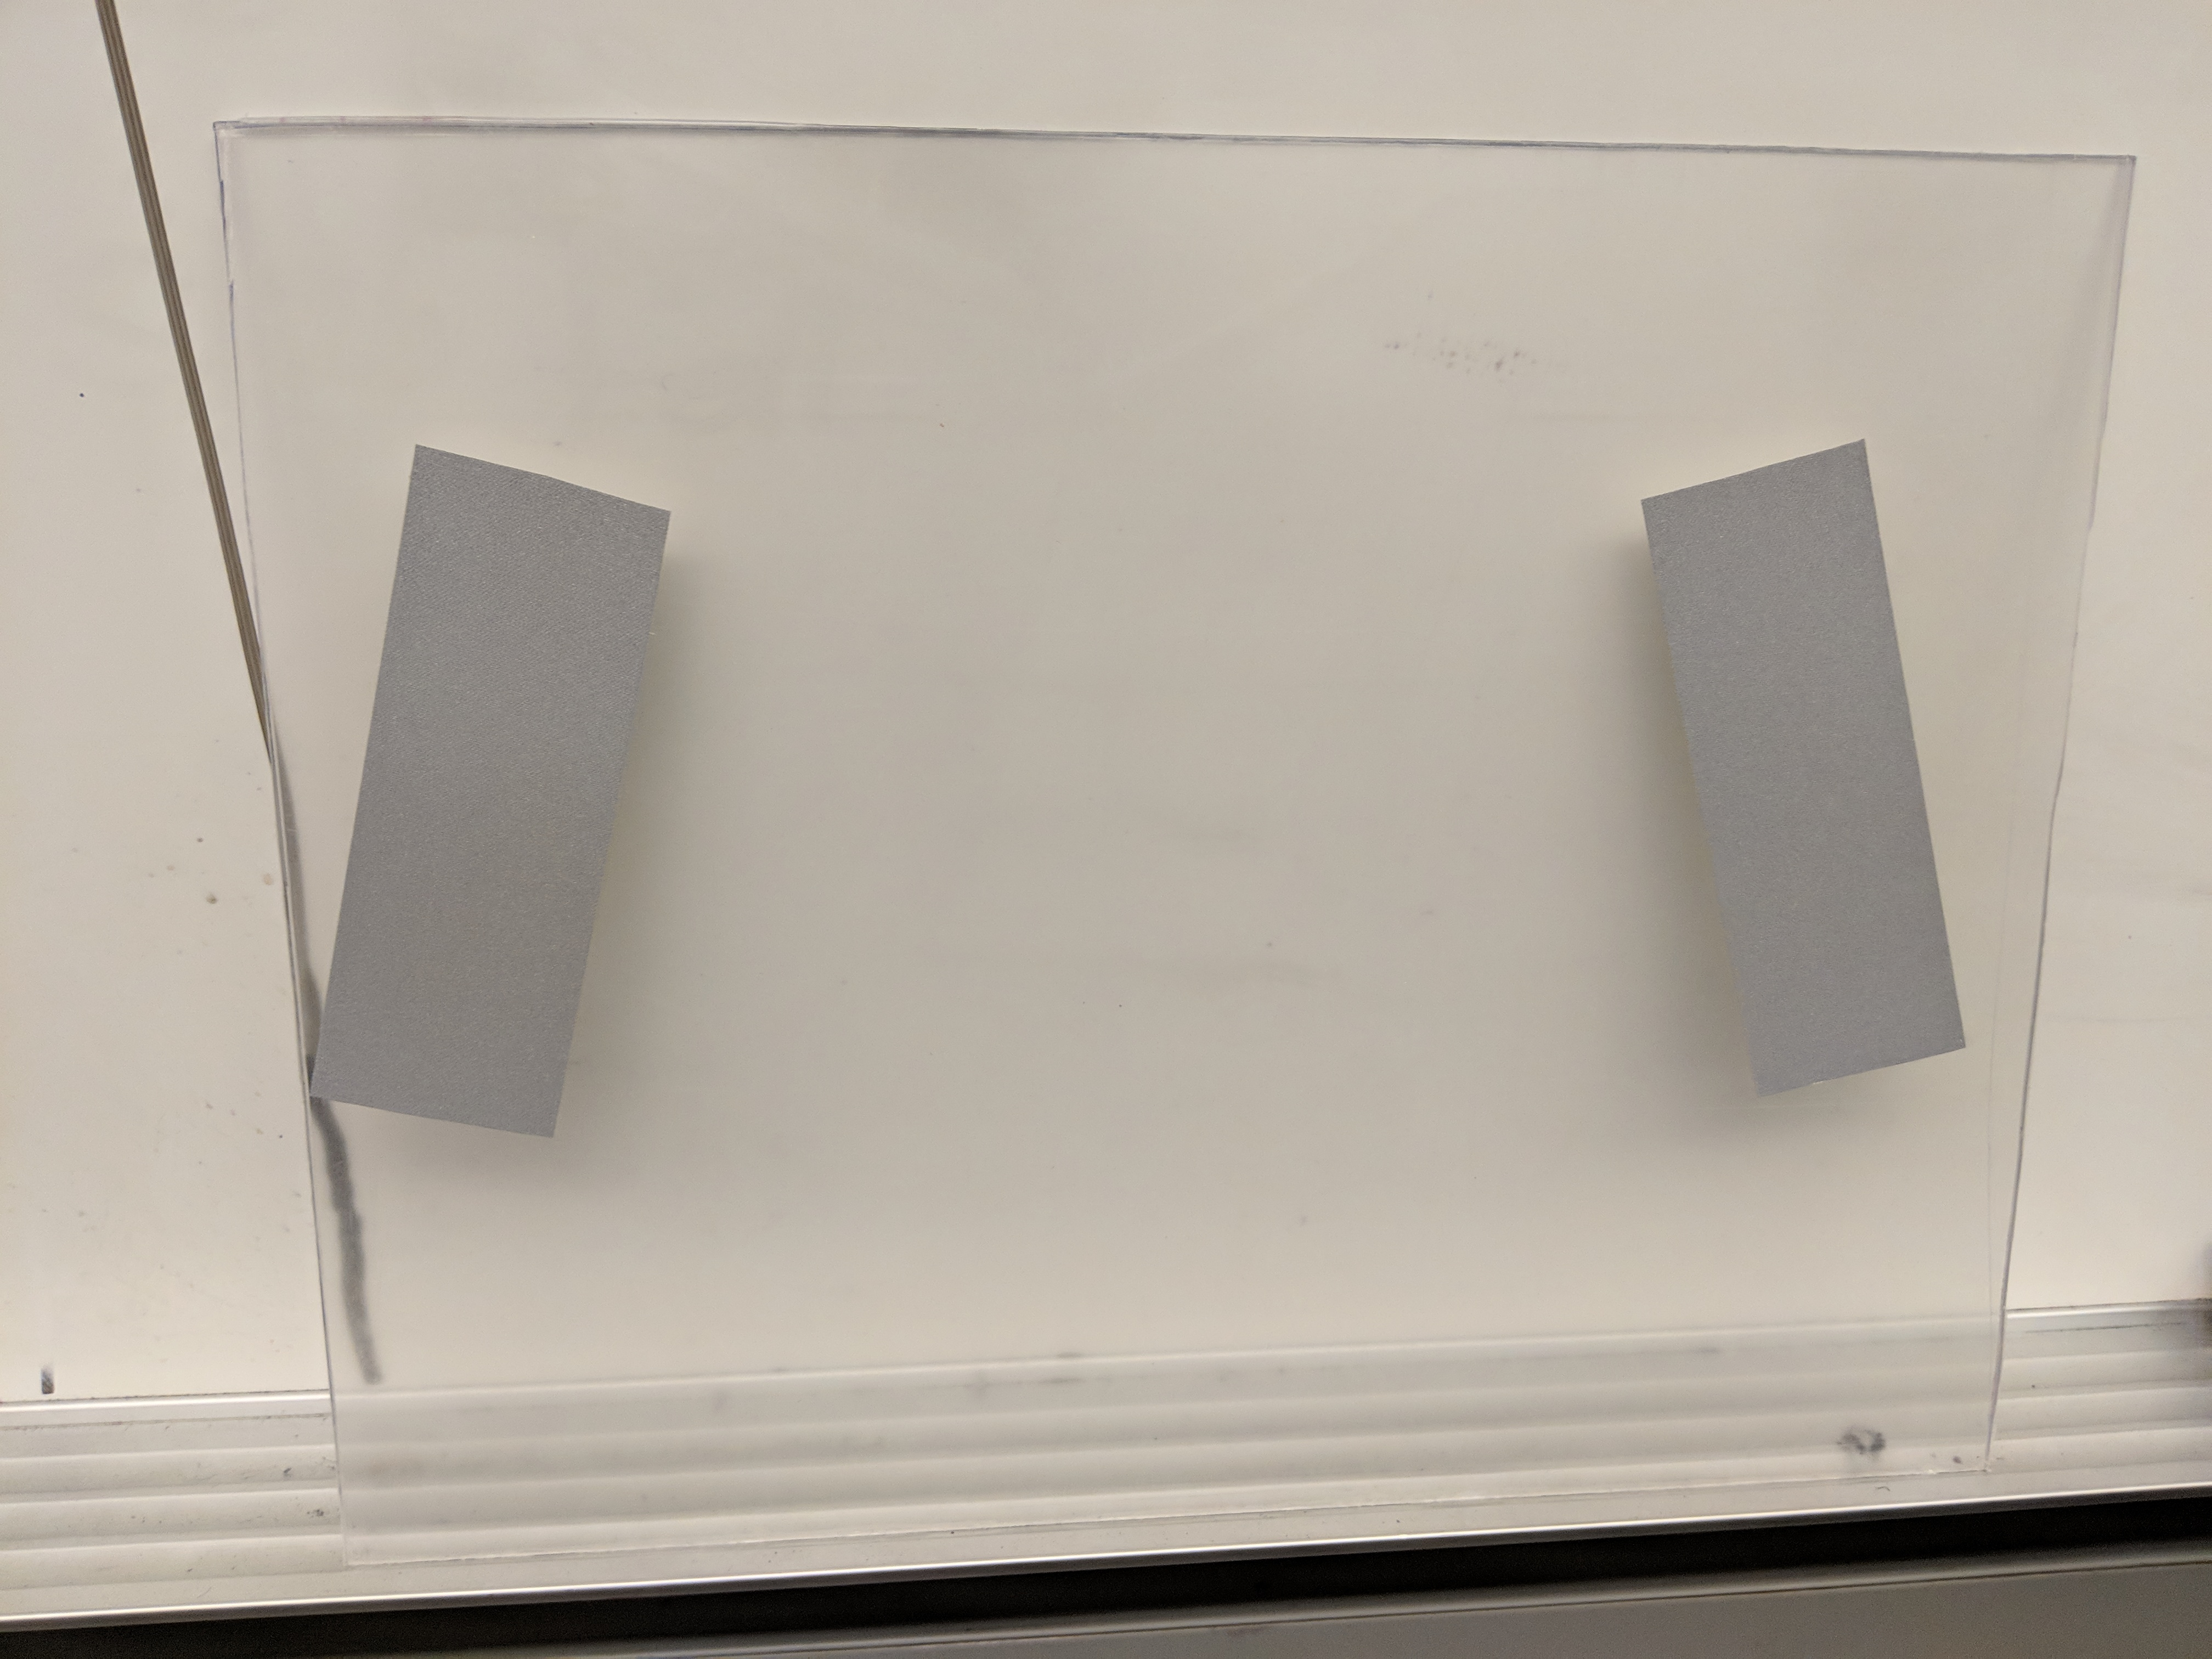vision_target: (298, 430, 1989, 1161), (298, 430, 1991, 1159), (298, 432, 747, 627)
